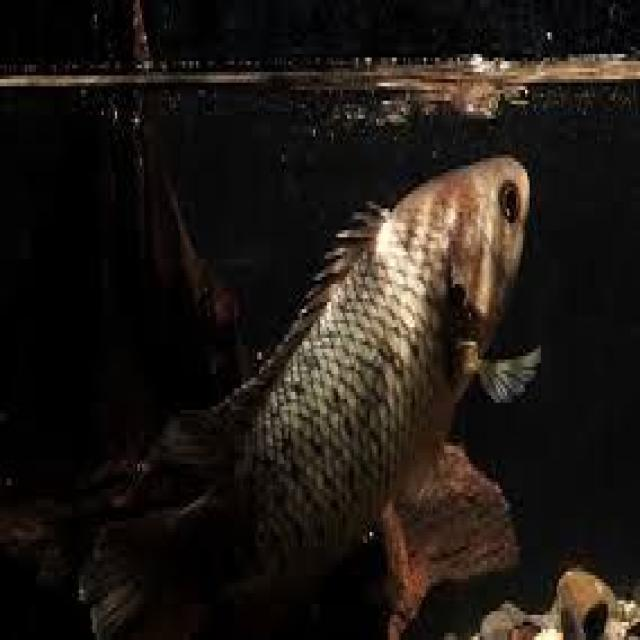Climbing-Perch: (56, 75, 568, 616)
